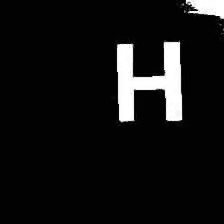LTR_H: (105, 35, 190, 130)
